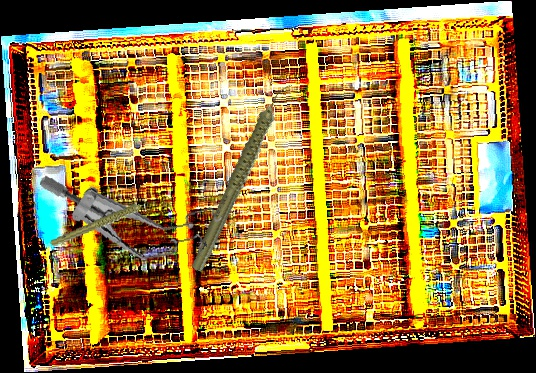Handpiece: (155, 79, 330, 276), (46, 199, 162, 248)
Speculum: (38, 146, 230, 280)
